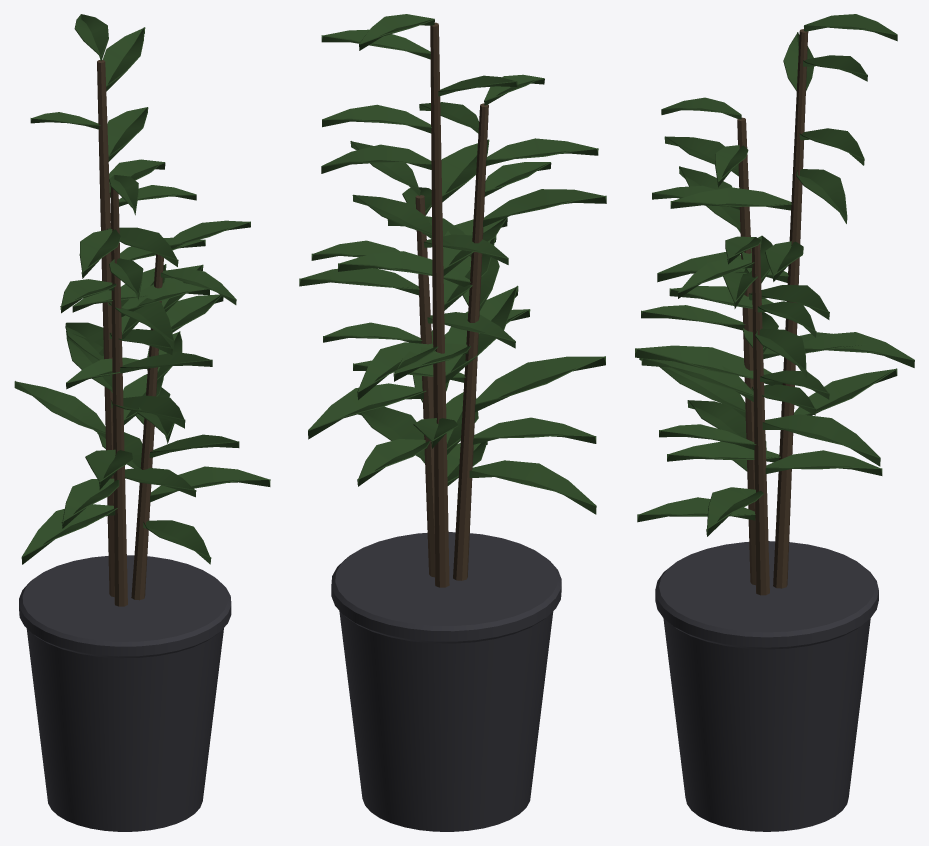
The model's file is pottedPlant.glb.
3 views of the same model, side by side, from view 1: azimuth 30°, elevation 25°; view 2: azimuth 150°, elevation 25°; view 3: azimuth 270°, elevation 25° (orthographic). The views are drawn at different scales.
Visible parts, largest first — view 1: pottedPlant; view 2: pottedPlant; view 3: pottedPlant.
Boxes of the visible parts, x1,y1,x2,y2 form: pottedPlant: (14,14,270,831); pottedPlant: (299,14,606,831); pottedPlant: (635,14,914,831).
Bounding box in the file's own units: 0.4592 × 1.37 × 0.4451.
